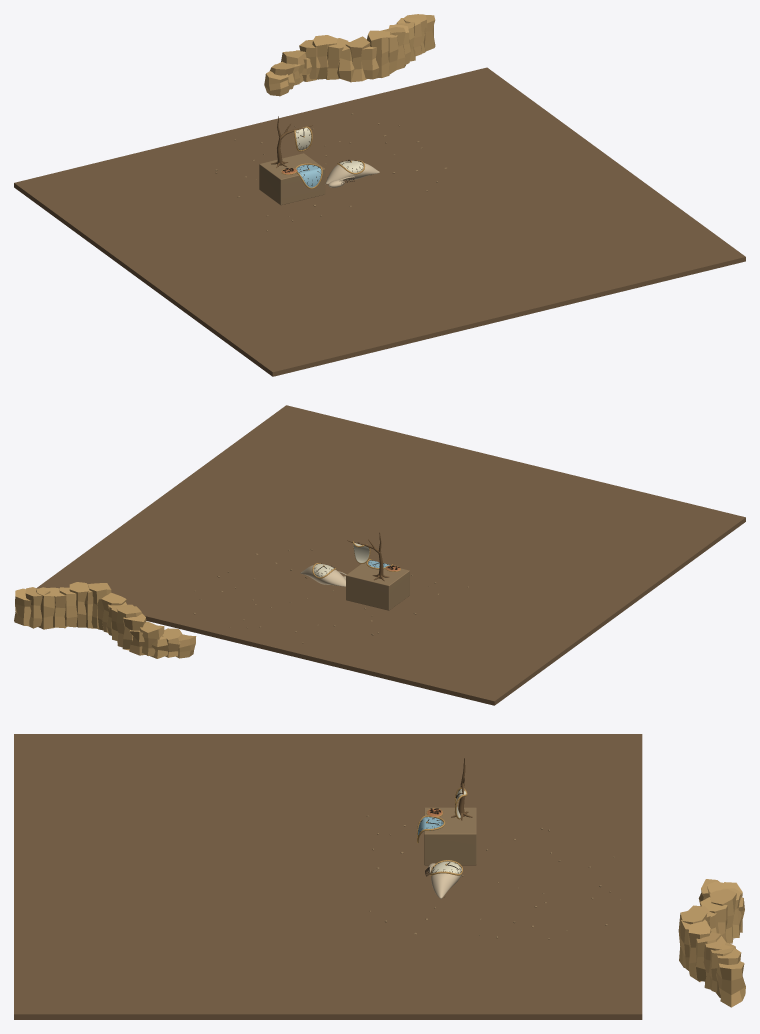
Rendered from persistence_of_memory.glb.
3 renders of one model, top to bottom at view 1: azimuth 30°, elevation 25°; view 2: azimuth 150°, elevation 25°; view 3: azimuth 270°, elevation 25°, orthographic. The views are drawn at different scales.
Visible parts, largest first — view 1: Endless dry plain, Left geometric plinth, Coastal cliff 11; view 2: Endless dry plain, Left geometric plinth, Coastal cliff 13, Coastal cliff 16, Coastal cliff 18, Coastal cliff 03, Coastal cliff 17; view 3: Endless dry plain, Left geometric plinth, Coastal cliff 18, Coastal cliff 06, Coastal cliff 13, Coastal cliff 14, Sleeper • impossible waxen face, Coastal cliff 07.
Part boxes in pixels (x1,y1,x2,y2): Endless dry plain: [14, 67, 745, 376]; Left geometric plinth: [259, 153, 325, 205]; Coastal cliff 11: [367, 30, 390, 77]; Endless dry plain: [36, 405, 745, 705]; Left geometric plinth: [346, 562, 409, 610]; Coastal cliff 13: [69, 582, 89, 627]; Coastal cliff 16: [36, 587, 55, 629]; Coastal cliff 18: [14, 588, 31, 626]; Coastal cliff 03: [140, 621, 164, 655]; Coastal cliff 17: [25, 587, 50, 628]; Endless dry plain: [14, 734, 642, 1019]; Left geometric plinth: [424, 807, 476, 865]; Coastal cliff 18: [716, 961, 745, 1007]; Coastal cliff 06: [710, 889, 736, 943]; Coastal cliff 13: [688, 921, 711, 981]; Coastal cliff 14: [695, 932, 721, 981]; Sleeper • impossible waxen face: [431, 873, 461, 898]; Coastal cliff 07: [700, 897, 727, 942].
Size of what is drawn, in the model's own units: 38 by 5.98 by 41.93.
